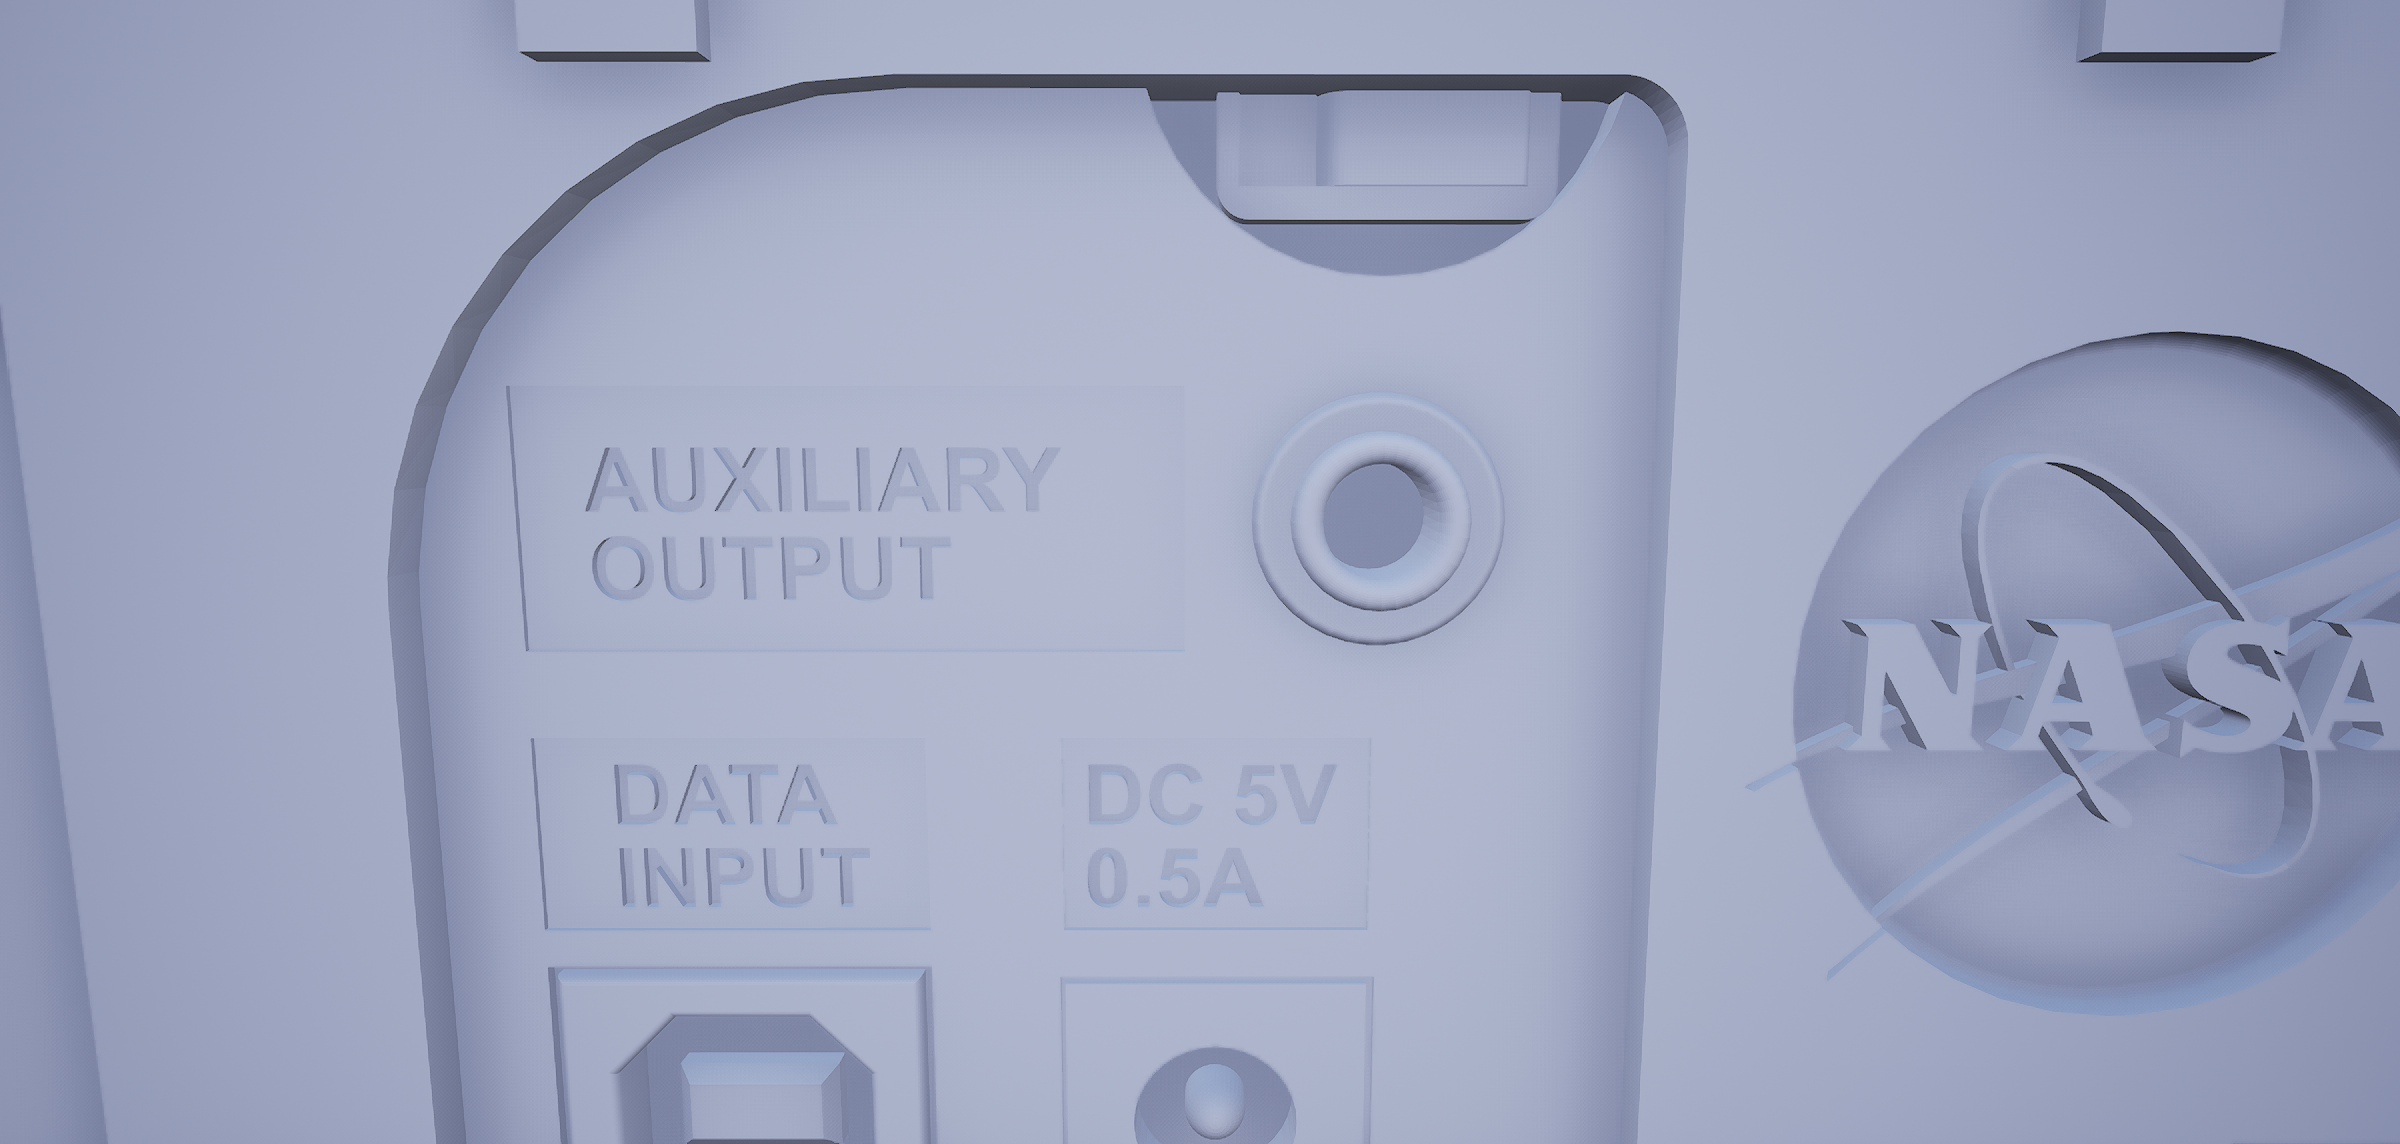aux: (1241, 378, 1515, 663)
dc: (1117, 1035, 1310, 1144)
usb: (603, 1002, 888, 1144)
